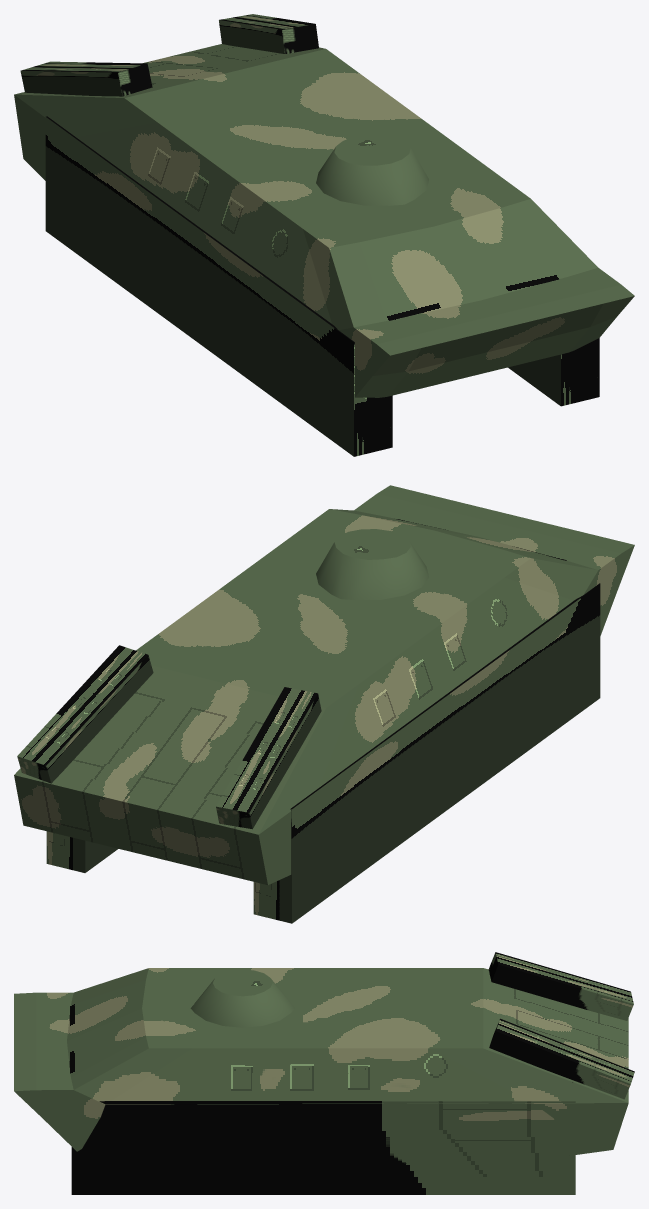
File: btr_collision.glb
3 renders of one model, top to bottom at view 1: azimuth 30°, elevation 25°; view 2: azimuth 150°, elevation 25°; view 3: azimuth 270°, elevation 25°, orthographic. The views are drawn at different scales.
Parts seen in each view (by area): view 1: Cube; view 2: Cube; view 3: Cube.
Part boxes in pixels (box(x1,y1,x2,y2)): Cube: box(14, 14, 634, 456); Cube: box(14, 485, 634, 923); Cube: box(14, 952, 634, 1194).
Size of the model in its own units: 1.81 by 1.41 by 4.86.
1 material, 1 textured.
